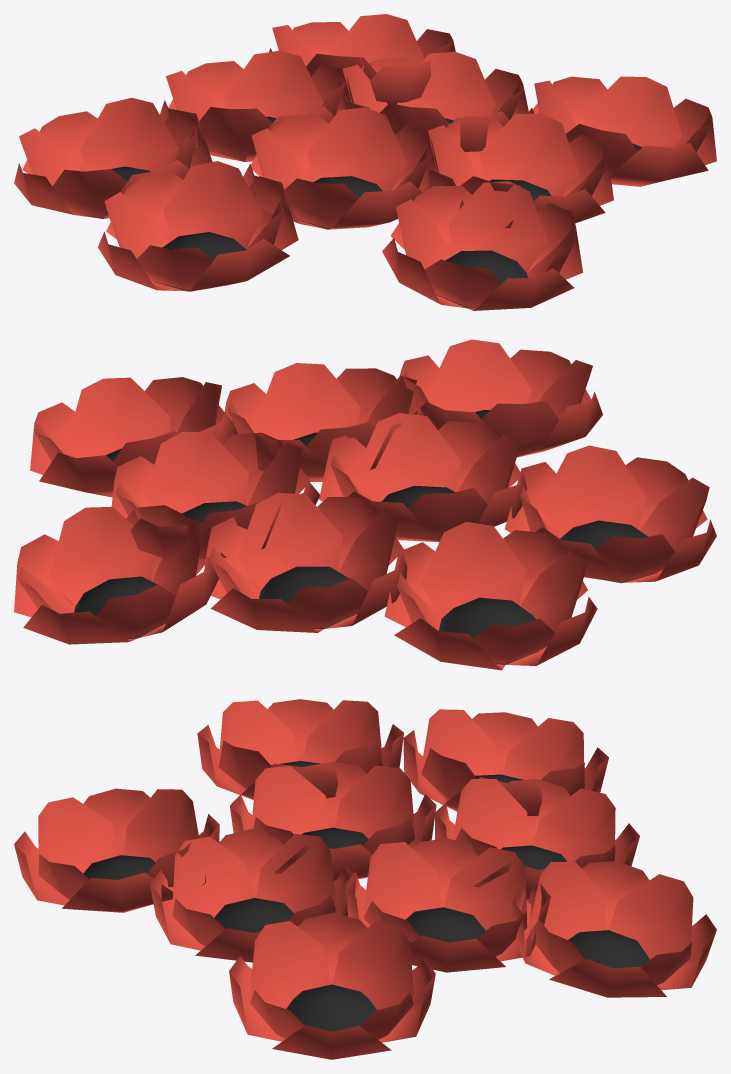
Rendered from Poppy.fbx.
3 renders of one model, top to bottom at view 1: azimuth 30°, elevation 25°; view 2: azimuth 150°, elevation 25°; view 3: azimuth 270°, elevation 25°, orthographic. The views are drawn at different scales.
Visible parts, largest first — view 1: flower.003; view 2: flower.003; view 3: flower.003.
Boxes of the visible parts, x1,y1,x2,y2 form: flower.003: (14, 14, 716, 310); flower.003: (14, 339, 716, 670); flower.003: (14, 699, 716, 1059).
Size of the model in its own units: 213 by 33.28 by 206.
